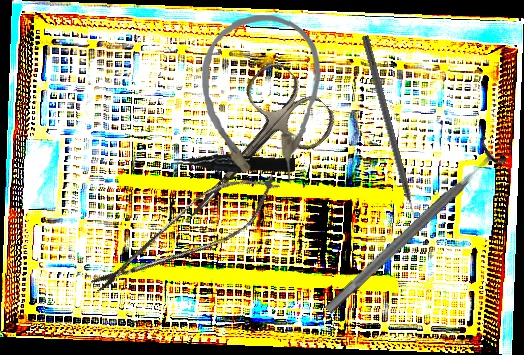Cannula: (200, 13, 323, 186)
Fixation Ring: (314, 134, 510, 324)
Hook Surgical: (359, 35, 420, 228)
Iris Scissors: (154, 55, 343, 249)
Micro Scissor: (81, 157, 290, 312)
Tissue Forceps: (173, 147, 296, 178)
